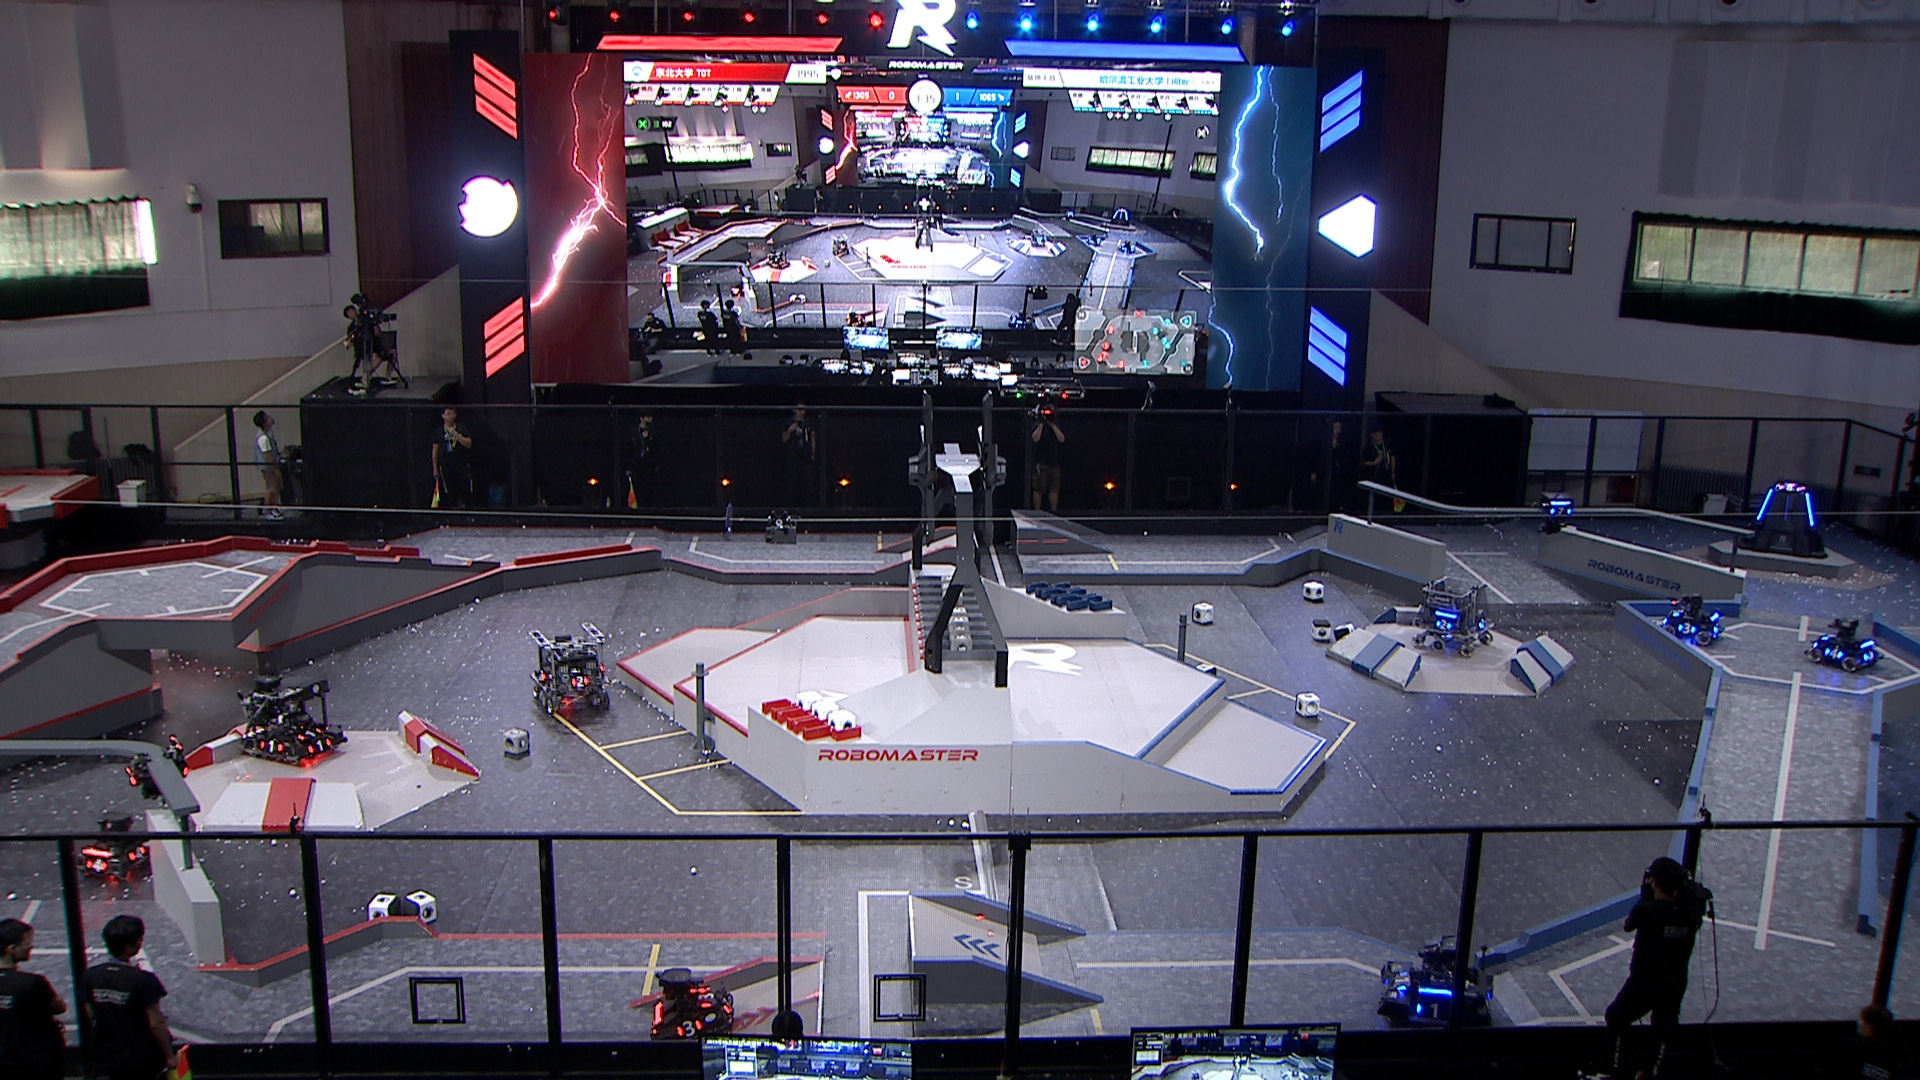armor: (1410, 994, 1448, 1021), (670, 1015, 704, 1040), (1391, 967, 1415, 997), (294, 723, 324, 744), (1756, 487, 1774, 524), (1803, 489, 1818, 529), (256, 737, 289, 756), (305, 735, 332, 756), (717, 988, 737, 1015), (695, 982, 713, 1011), (121, 761, 140, 789), (127, 845, 148, 865), (1822, 646, 1845, 665), (567, 673, 591, 690), (83, 858, 107, 876), (1549, 504, 1575, 520), (533, 666, 551, 687), (1859, 646, 1879, 665), (1432, 617, 1453, 633), (1675, 622, 1697, 637), (1476, 616, 1491, 632)
base: (1741, 479, 1832, 556)
car: (1373, 932, 1498, 1043), (231, 673, 344, 767), (524, 622, 611, 723), (647, 960, 741, 1046), (67, 806, 166, 885), (1406, 575, 1495, 659), (1801, 612, 1884, 676), (1650, 585, 1724, 647)
ignore: (766, 248, 790, 272), (1109, 204, 1133, 225), (1027, 224, 1048, 248), (1774, 479, 1808, 493), (831, 237, 852, 258), (845, 309, 862, 328)
watcher: (119, 728, 189, 803), (1534, 487, 1576, 541)
